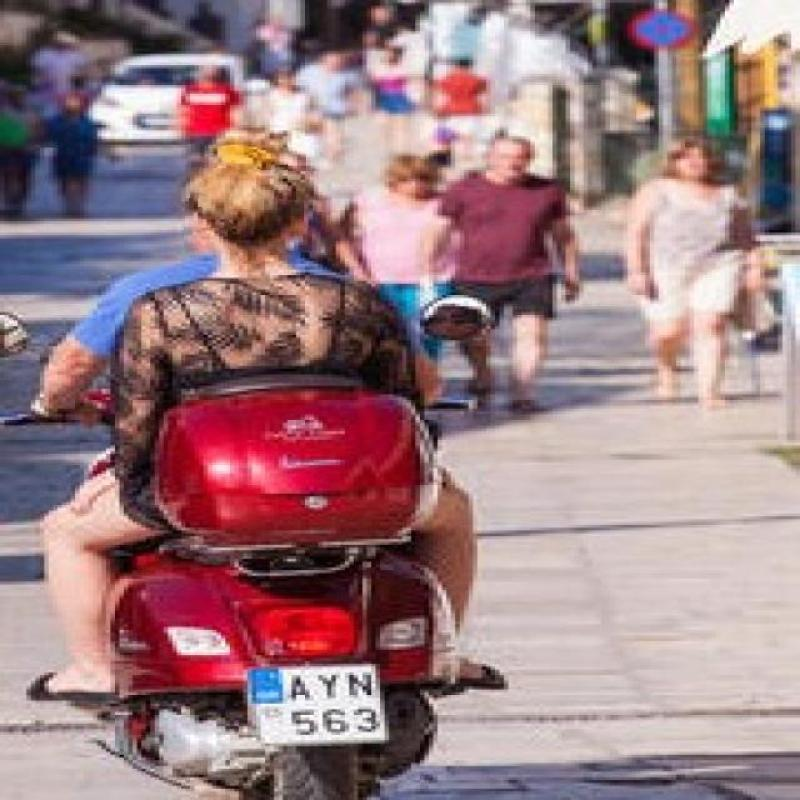nohelmet: (186, 146, 332, 252)
